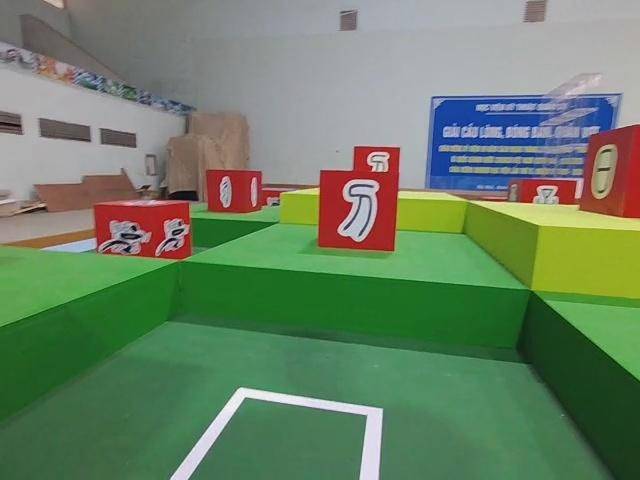R1: (95, 200, 190, 268)
R2 Fake: (319, 168, 396, 252), (580, 123, 639, 221)
R2 Real: (206, 170, 262, 214)
